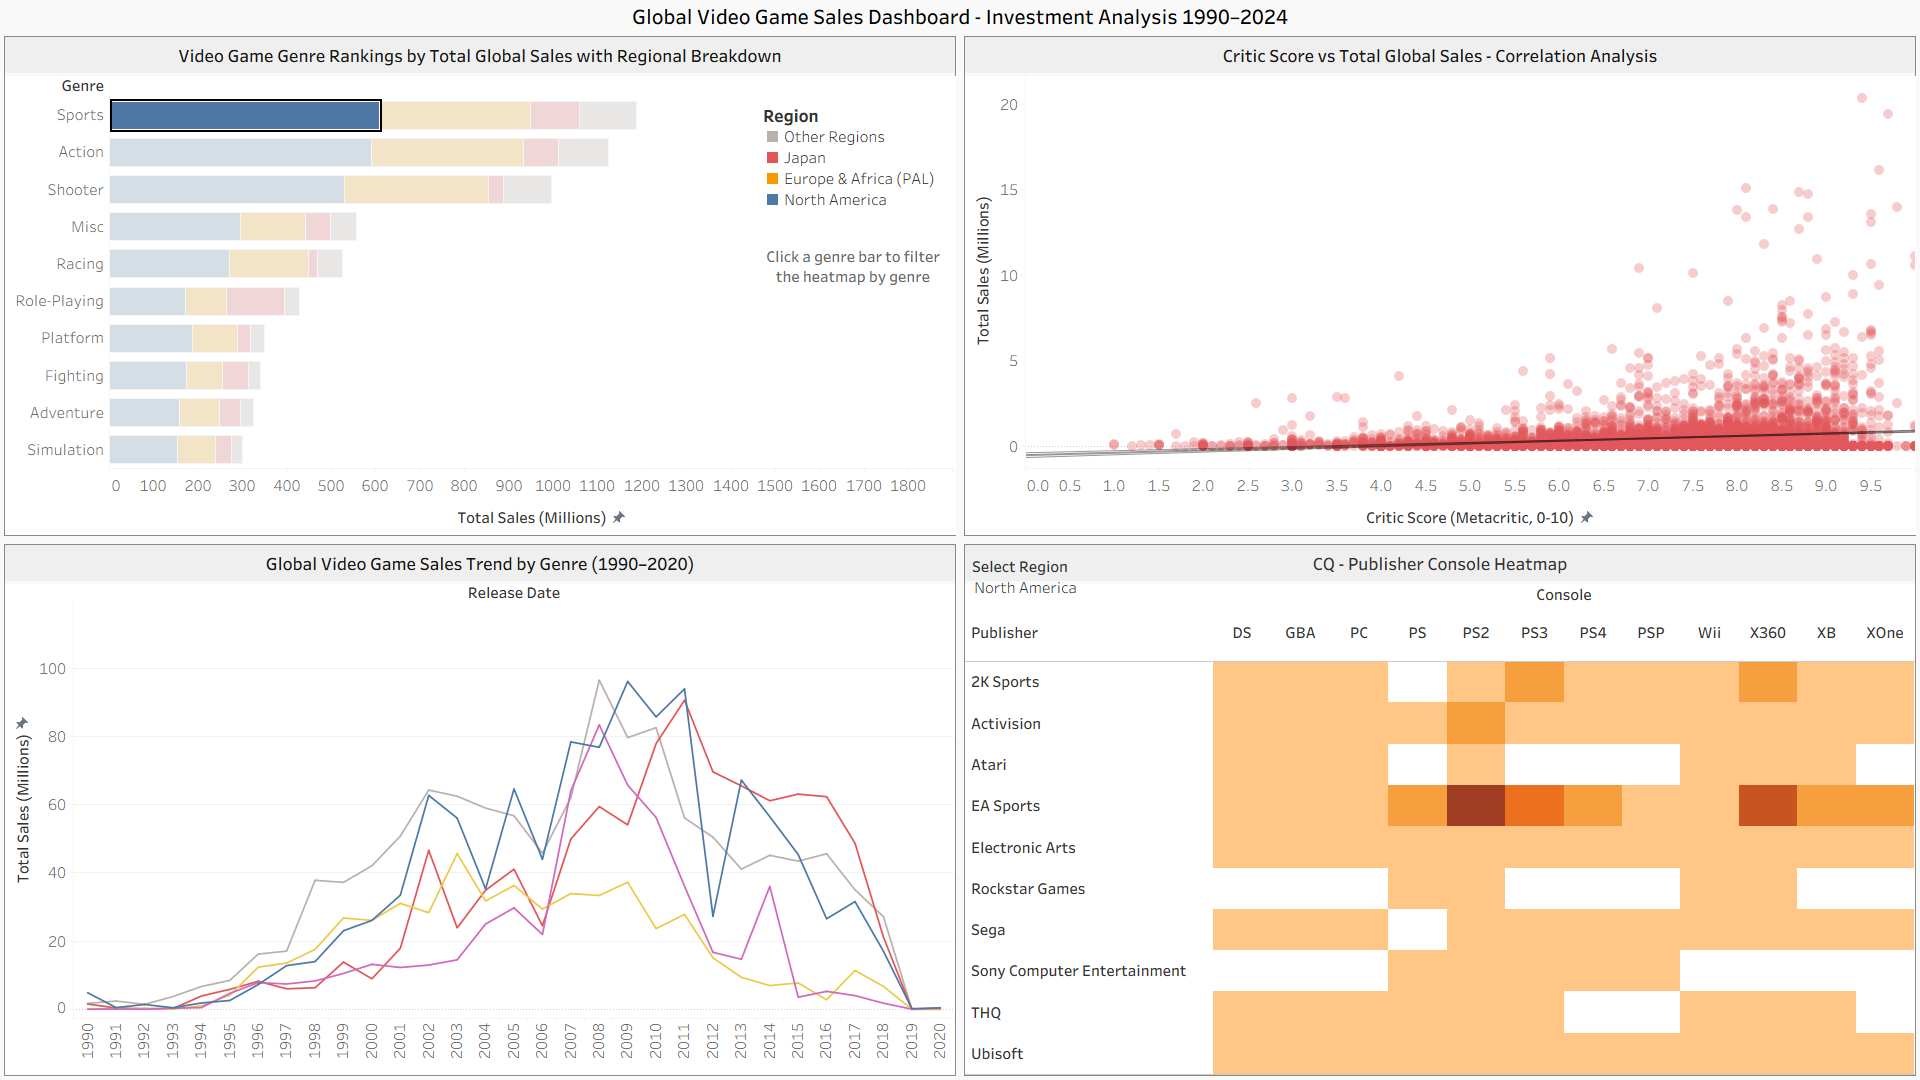

The dashboard page shown, as its layout file describes it:
{"tool":"tableau","page":{"name":"Dashboard 1","canvas":[1920,1080],"ordinal":0},"visuals":[{"type":"title","box":[0,0,1920,32]},{"type":"worksheet","title":"SQ1 - Genre Sales by Region","mark":"Automatic","rows":["Genre"],"box":[0,32,960,507.6]},{"type":"worksheet","title":"SQ2- Critic Scores vs Sales","mark":"Circle","rows":["Total_Sales"],"cols":["Critic_Score"],"box":[960,32,960,507.6]},{"type":"legend","title":"SQ1 - Genre Sales by Region","param":"[federated.1bk7y1316vb3ml13s5kvj0c2n98y].[:Measure Names]","box":[762,101.5,178,136.1]},{"type":"text","box":[760,232.2,186,69.1]},{"type":"worksheet","title":"SQ3 - Sales Trend Over Time","mark":"Automatic","rows":["Total_Sales"],"cols":["Release_Date"],"box":[0,539.6,959.9,540.4]},{"type":"worksheet","title":"CQ - Publisher Console Heatmap","mark":"Square","rows":["Publisher"],"cols":["Console"],"box":[959.9,539.6,960.1,540.4]},{"type":"parameter","param":"[Parameters].[Parameter 1]","box":[972,555.1,143,65.9]}]}

Visuals, with their boxes in screenshot pixels (x1, y1, x2, y2), scaled from the page's 1920x1080 canvas onto the 1920x1080 screenshot:
title: bbox=[0, 0, 1919, 32]
"SQ1 - Genre Sales by Region" worksheet: bbox=[0, 32, 960, 540]
"SQ2- Critic Scores vs Sales" worksheet (Circle marks): bbox=[960, 32, 1919, 540]
"SQ1 - Genre Sales by Region" legend: bbox=[762, 102, 940, 238]
text: bbox=[760, 232, 946, 301]
"SQ3 - Sales Trend Over Time" worksheet: bbox=[0, 540, 960, 1079]
"CQ - Publisher Console Heatmap" worksheet (Square marks): bbox=[960, 540, 1919, 1079]
parameter: bbox=[972, 555, 1115, 621]
